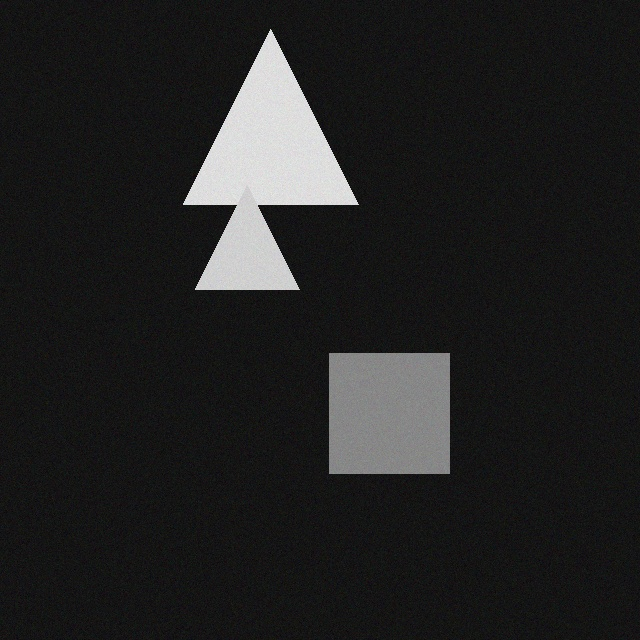square: (321, 362, 441, 482)
triangle: (175, 38, 350, 213), (187, 194, 291, 298)
